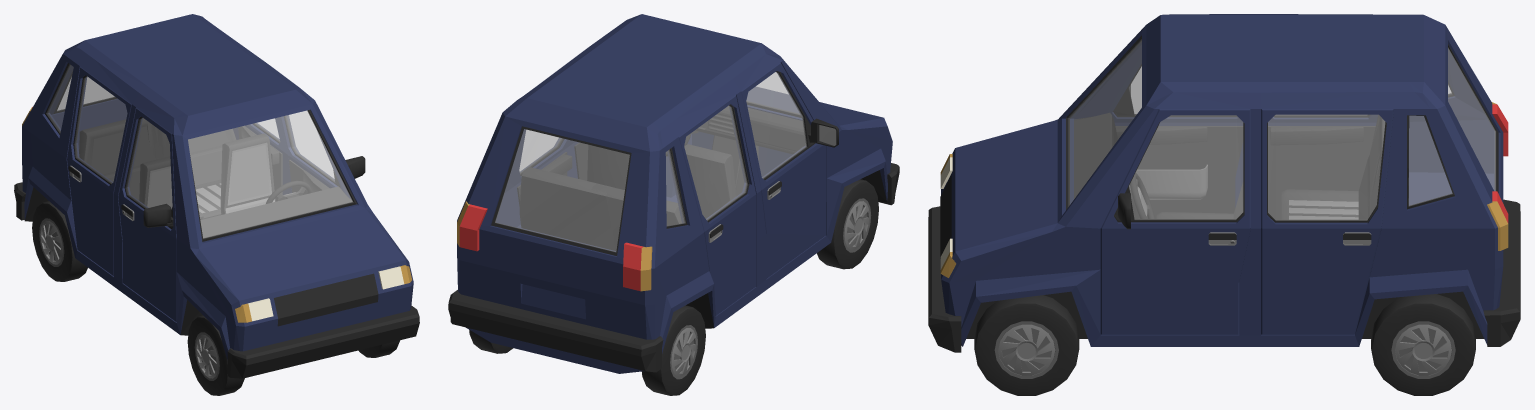
Rendered from Car_SmallCar.FBX.
3 views of the same model, side by side, from view 1: azimuth 30°, elevation 25°; view 2: azimuth 150°, elevation 25°; view 3: azimuth 270°, elevation 25° (orthographic). The views are drawn at different scales.
Visible parts, largest first — view 1: Chassis, Windows, Interior, FR_Door, RR_Door, FL_Door, RR_Wheel, FR_Wheel, RL_Door, Front_Lights, Steerwheel, FL_Wheel; view 2: Chassis, Interior, Windows, FR_Door, RR_Door, FR_Wheel, RR_Wheel, RL_Door, Brake_Lights, FL_Door, Turn_Lights_r, RL_Wheel; view 3: Chassis, FL_Door, RL_Door, Windows, FR_Door, RL_Wheel, FL_Wheel, RR_Door, Interior, Turn_Lights_l, Steerwheel, Brake_Lights.
Part boxes in pixels (x1,y1,x2,y2): Chassis: (14,14,419,378); Windows: (47,65,352,238); Interior: (79,118,351,237); FR_Door: (118,108,176,321); RR_Door: (67,67,131,276); FL_Door: (279,111,365,194); RR_Wheel: (32,201,87,281); FR_Wheel: (187,315,244,395); RL_Door: (238,118,283,201); Front_Lights: (248,266,404,321); Steerwheel: (266,180,311,203); FL_Wheel: (358,340,399,357); Chassis: (448,14,899,373); Interior: (519,106,805,250); Windows: (495,72,799,251); FR_Door: (741,62,838,278); RR_Door: (678,95,756,315); FR_Wheel: (817,179,878,269); RR_Wheel: (642,305,705,395); RL_Door: (515,129,572,224); Brake_Lights: (459,204,643,291); FL_Door: (572,141,588,180); Turn_Lights_r: (640,246,652,291); RL_Wheel: (469,330,513,353); Chassis: (928,14,1520,352); FL_Door: (1100,109,1250,334); RL_Door: (1261,109,1393,334); Windows: (1068,39,1495,206); FR_Door: (1106,55,1243,218); RL_Wheel: (1371,294,1475,395); FL_Wheel: (974,295,1079,395); RR_Door: (1268,114,1377,219); Interior: (1074,113,1385,219); Turn_Lights_l: (940,201,1508,277); Steerwheel: (1130,173,1154,218); Brake_Lights: (1492,104,1508,223).
Size of the model in its own units: 5.14 by 5.15 by 9.39.
